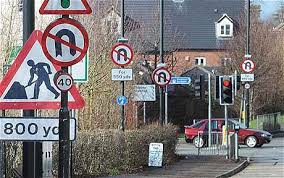No_u_turn: (43, 18, 89, 67), (111, 44, 133, 66)
